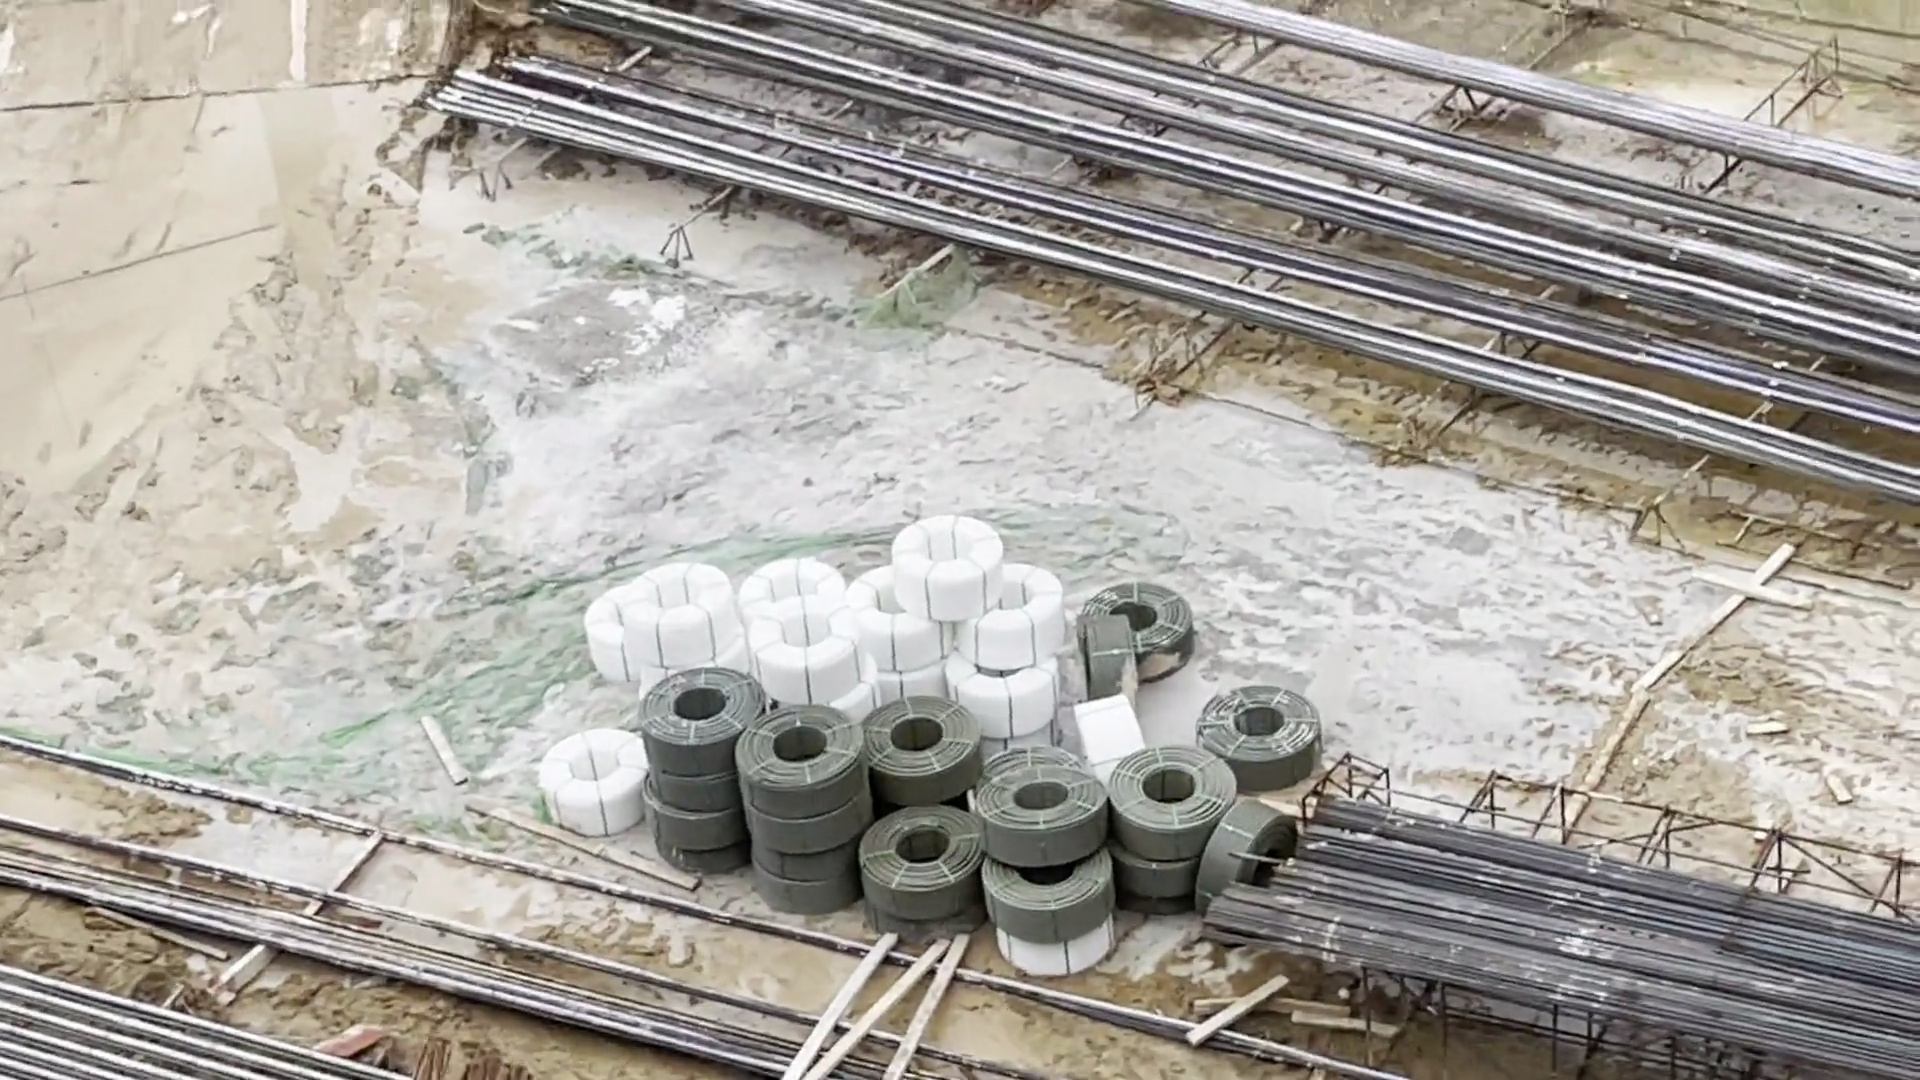rebar: (905, 15, 1899, 411), (1201, 789, 1920, 1058)
